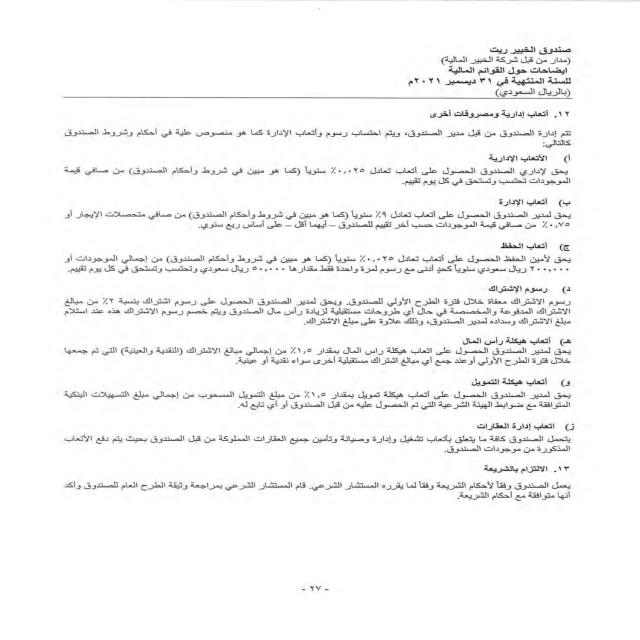notes: (431, 66, 573, 74)
text: (33, 110, 579, 518)
